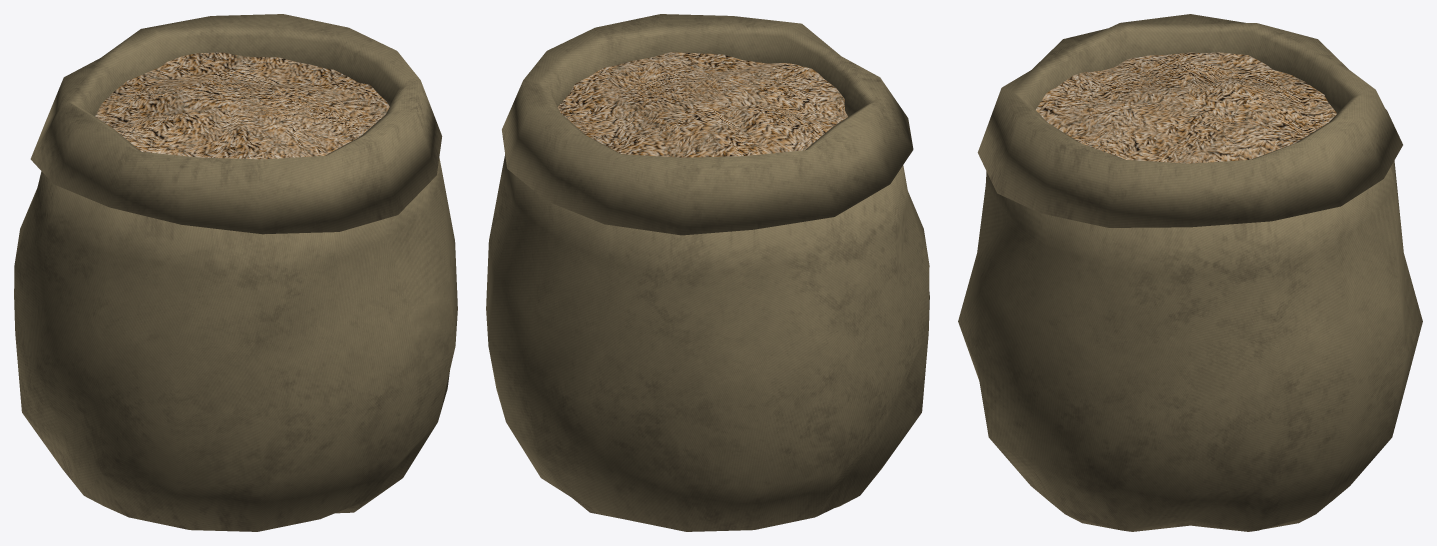
File: SackOfGrain.fbx
3 renders of one model, left to right at view 1: azimuth 30°, elevation 25°; view 2: azimuth 150°, elevation 25°; view 3: azimuth 270°, elevation 25°, orthographic.
Visible parts, largest first — view 1: SackOfGrain; view 2: SackOfGrain; view 3: SackOfGrain.
Part boxes in pixels (box(x1,y1,x2,y2)): SackOfGrain: box(14, 14, 457, 531); SackOfGrain: box(486, 14, 929, 531); SackOfGrain: box(958, 14, 1422, 531).
Size of the model in its own units: 53.17 by 50.14 by 53.17.
1 material, 1 textured.
